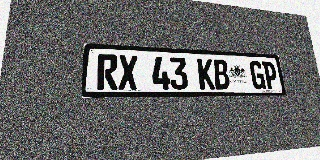3: (169, 57, 188, 90)
4: (152, 56, 171, 90)
B: (213, 59, 230, 89)
G: (249, 61, 266, 89)
K: (197, 58, 215, 90)
P: (262, 61, 279, 89)
R: (97, 54, 118, 90)
X: (118, 55, 138, 90)
